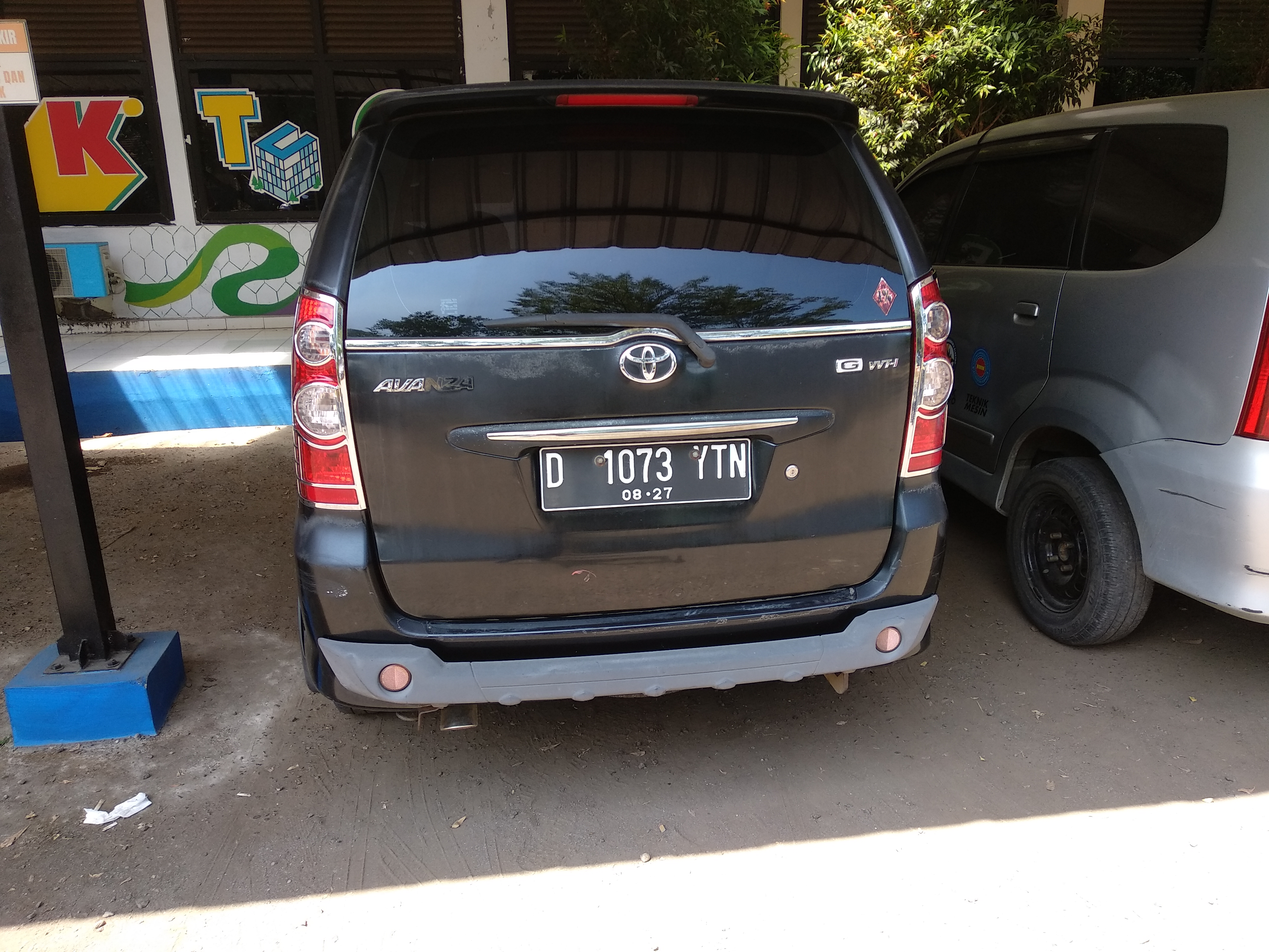plat nomor: (540, 438, 751, 511)
